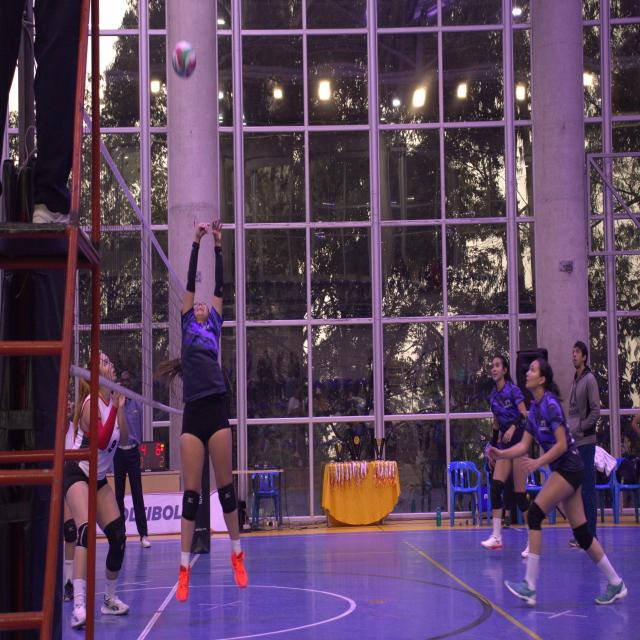volleyball: (170, 38, 198, 78)
